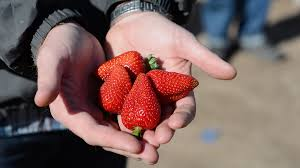strawberry: (122, 71, 161, 133), (145, 69, 200, 103), (98, 66, 134, 116)
